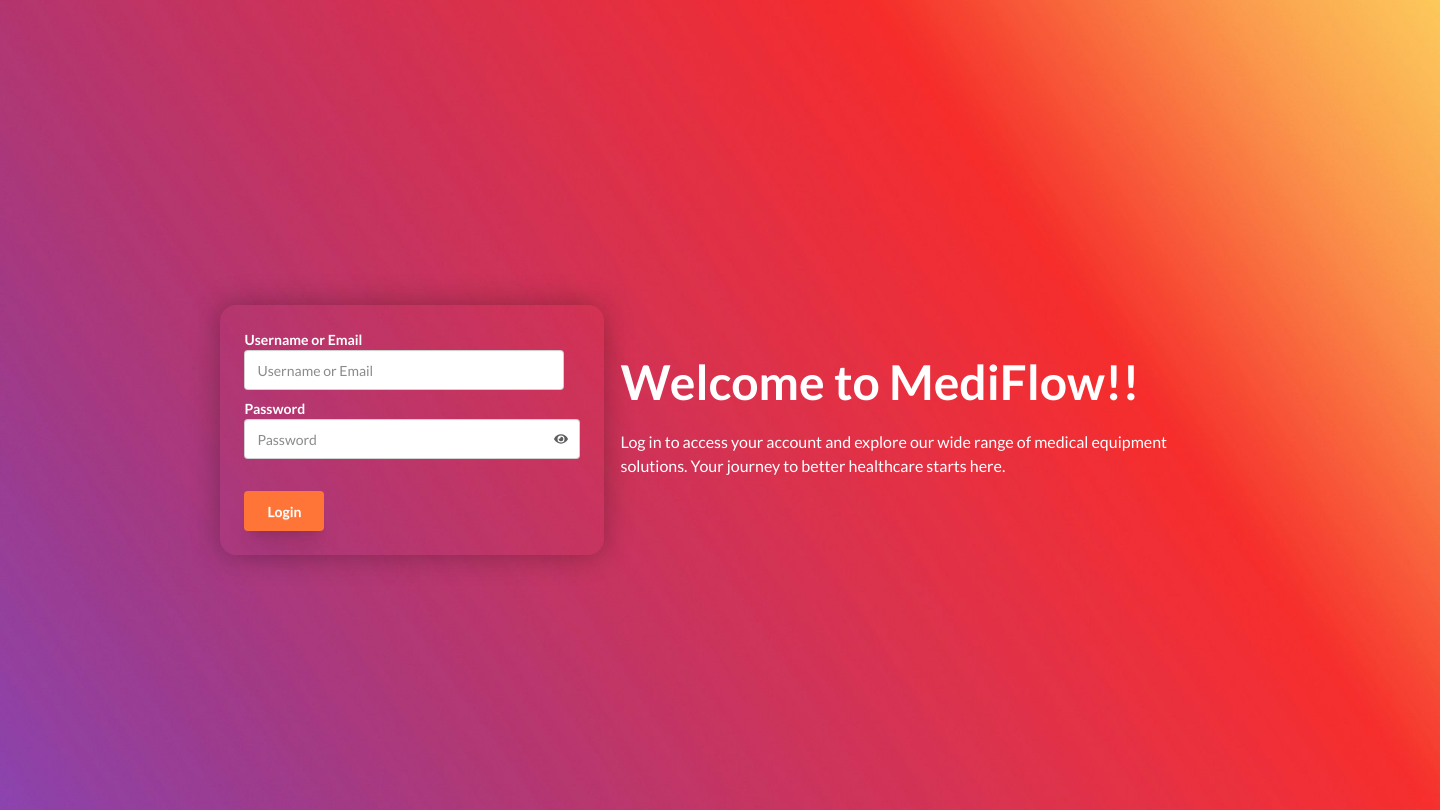
Test: Login › shows network error when request fails
The width and height of the screenshot is (1440, 810).
Type "alice" into the field with placeholder "Username or Email" at x=404, y=370, box [244,350,564,390]
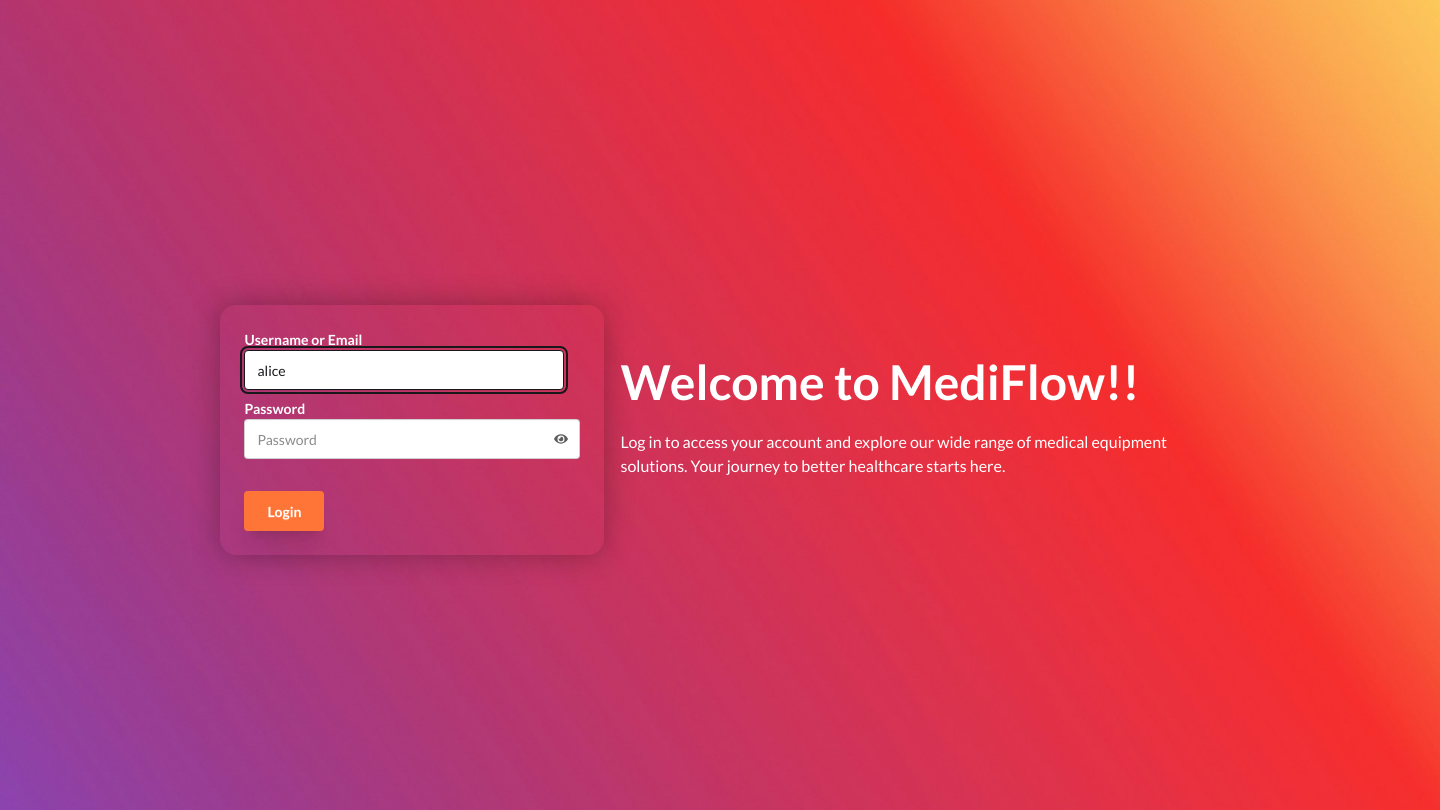
Type "wrong" into the password field with placeholder "Password" at x=412, y=439, box [244,419,580,459]
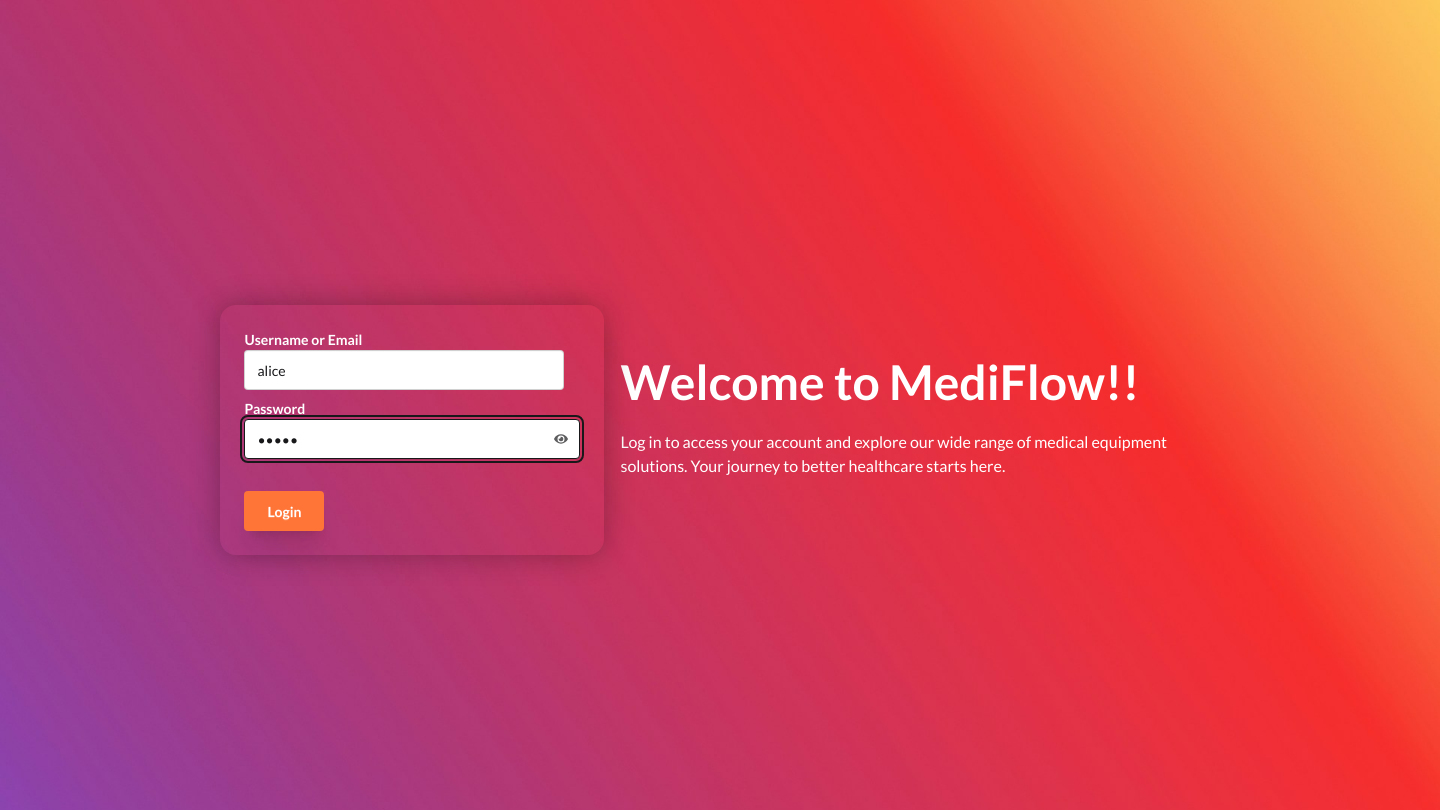
Click the button "Login" at x=284, y=511, box [244,491,324,531]
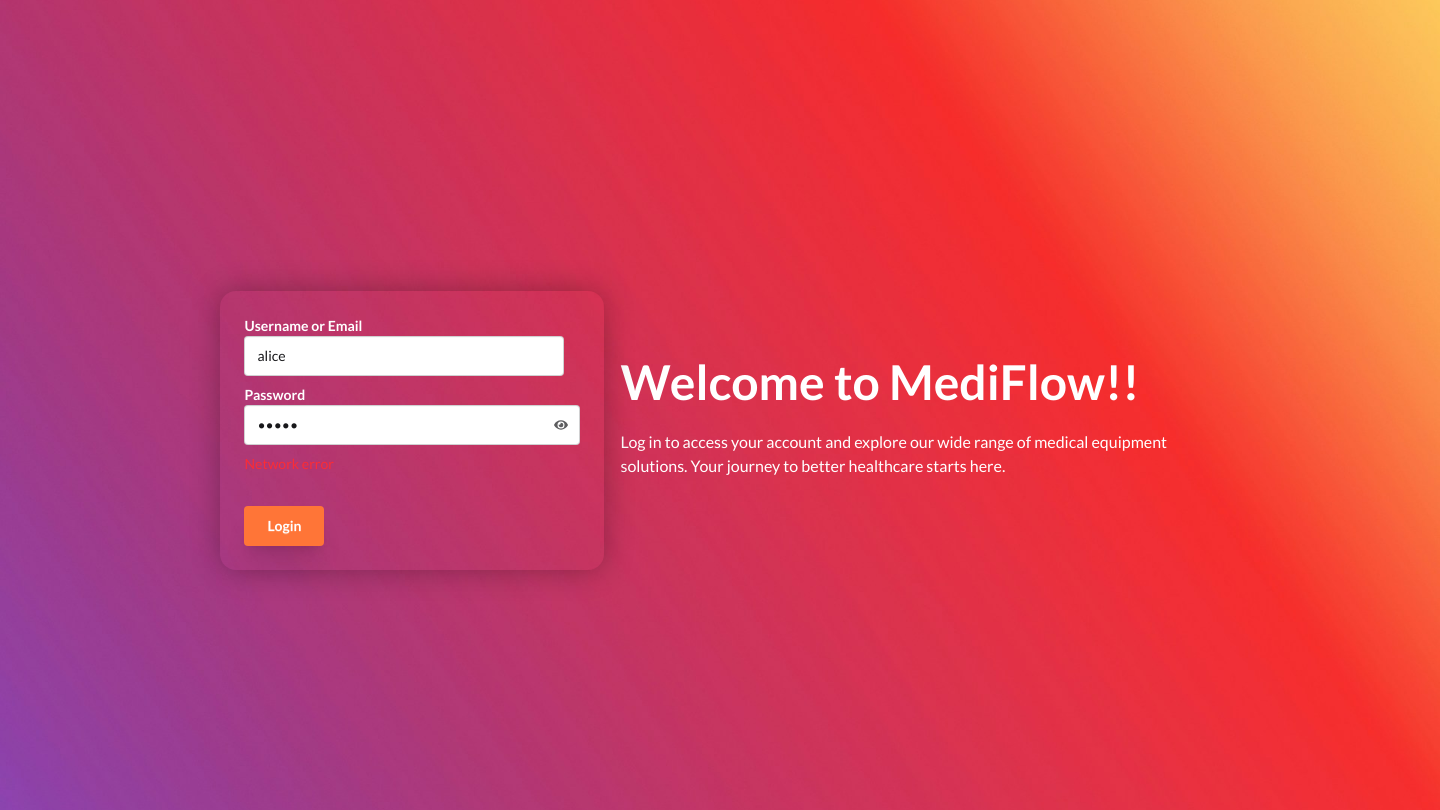
Check: the text "Network error" is shown, box [244,454,334,472]
